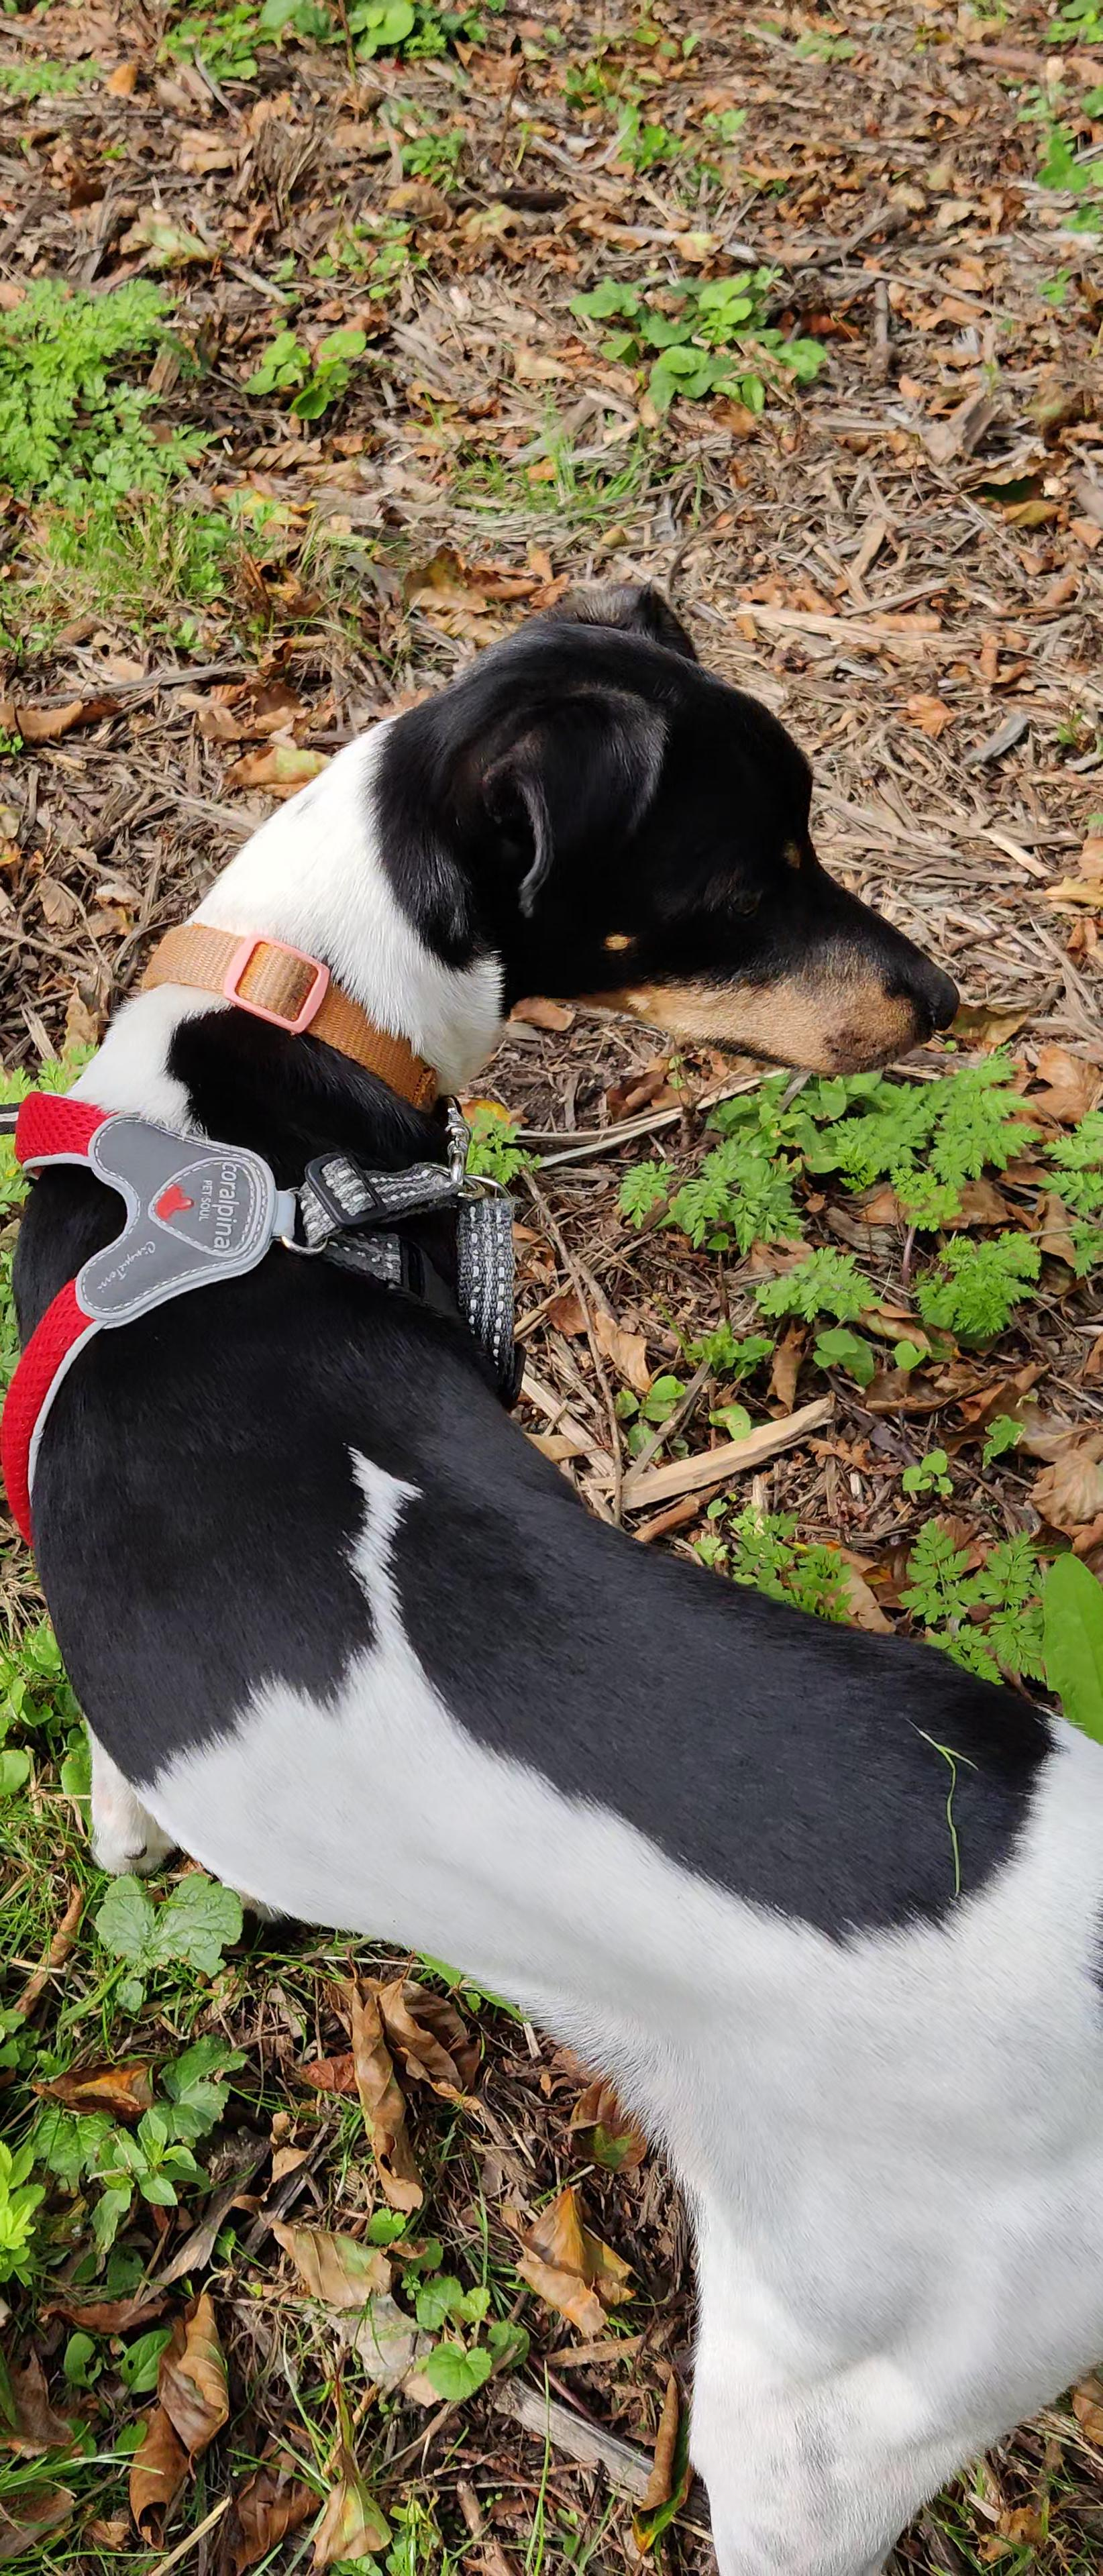Dog: (12, 573, 1103, 2576)
